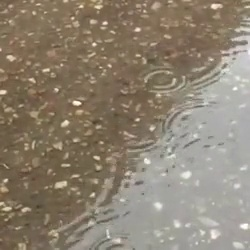drop: (162, 100, 234, 149), (142, 67, 185, 93), (92, 235, 138, 249)
